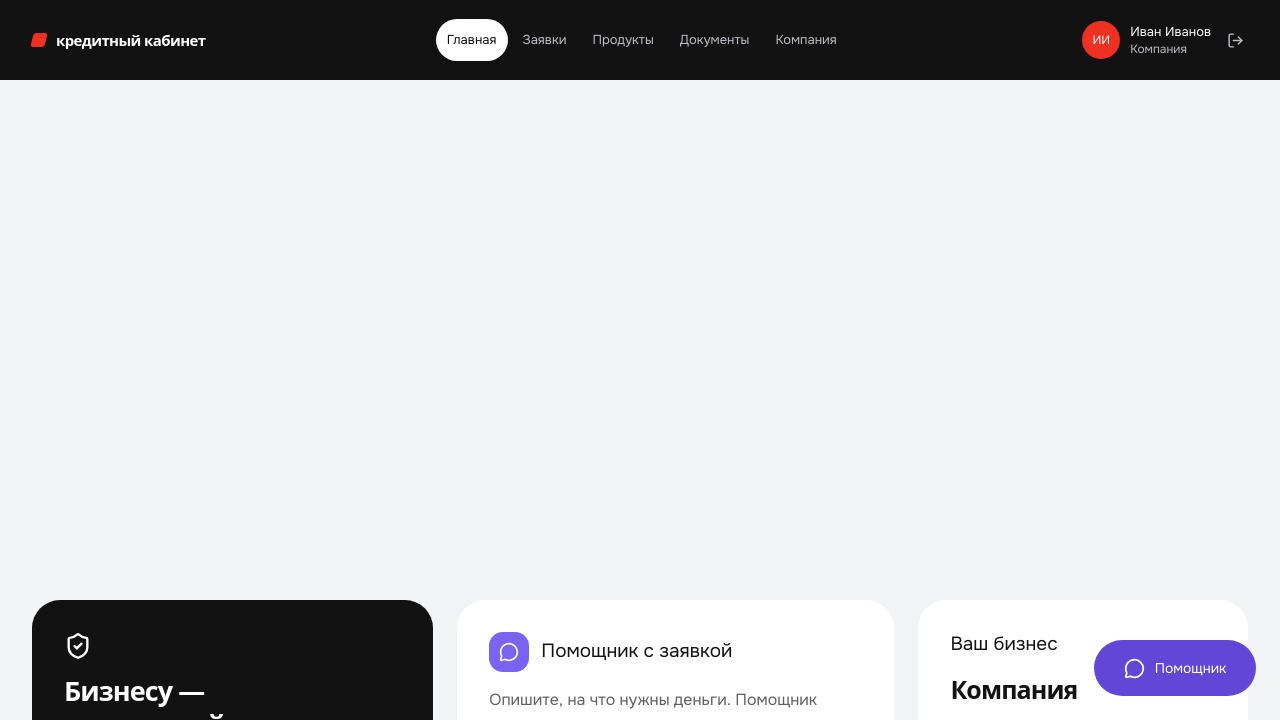
shows company fact labels and quotes without applying the unconfirmed proposal
Click the button with aria-label "Открыть чат с помощником" at (1175,668), box [1094,640,1256,696]
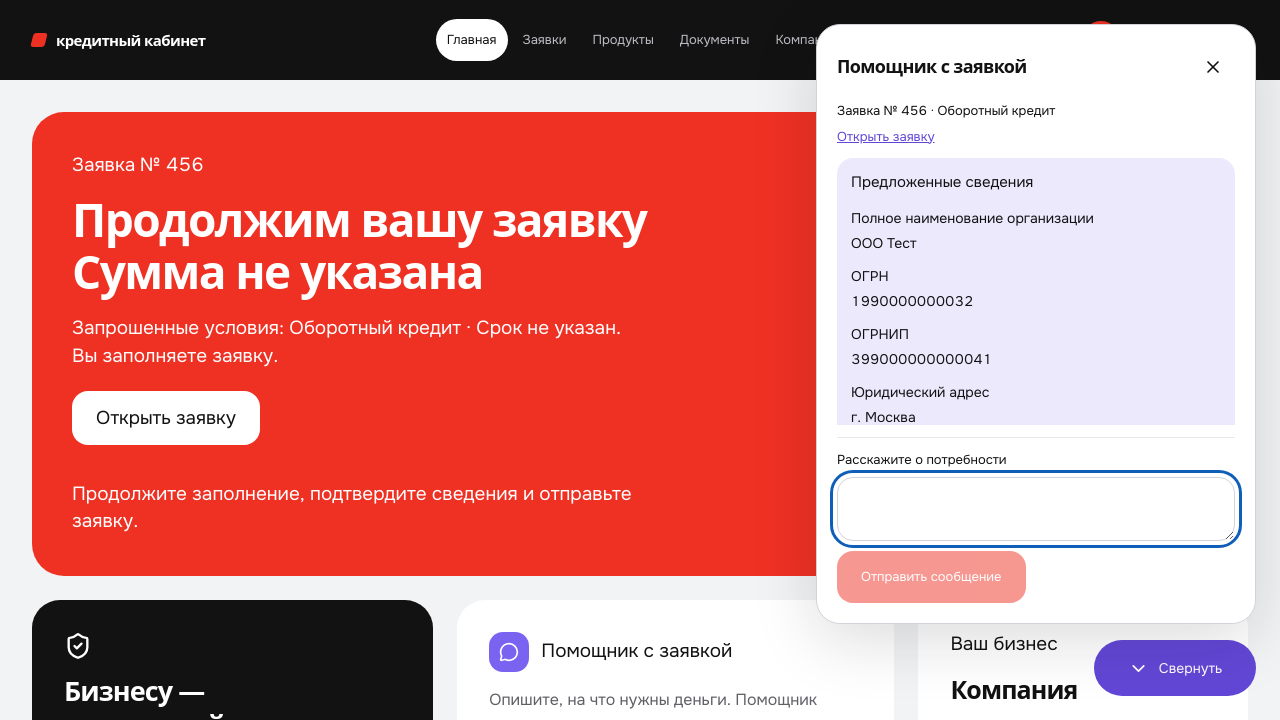
Result: the text "Полное наименование организации" is shown at [851,209,1094,227]
Result: the text "ОГРН" is shown at [851,267,889,285]
Result: the text "ОГРНИП" is shown at [851,325,909,343]
